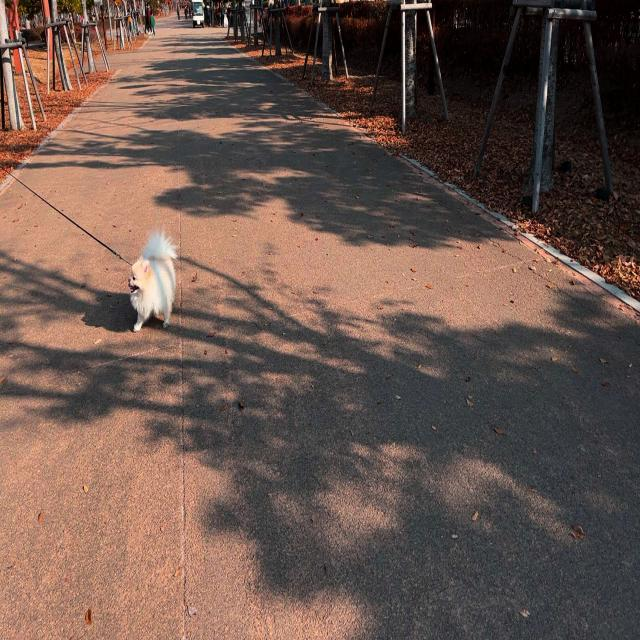Dog: (127, 225, 180, 333)
